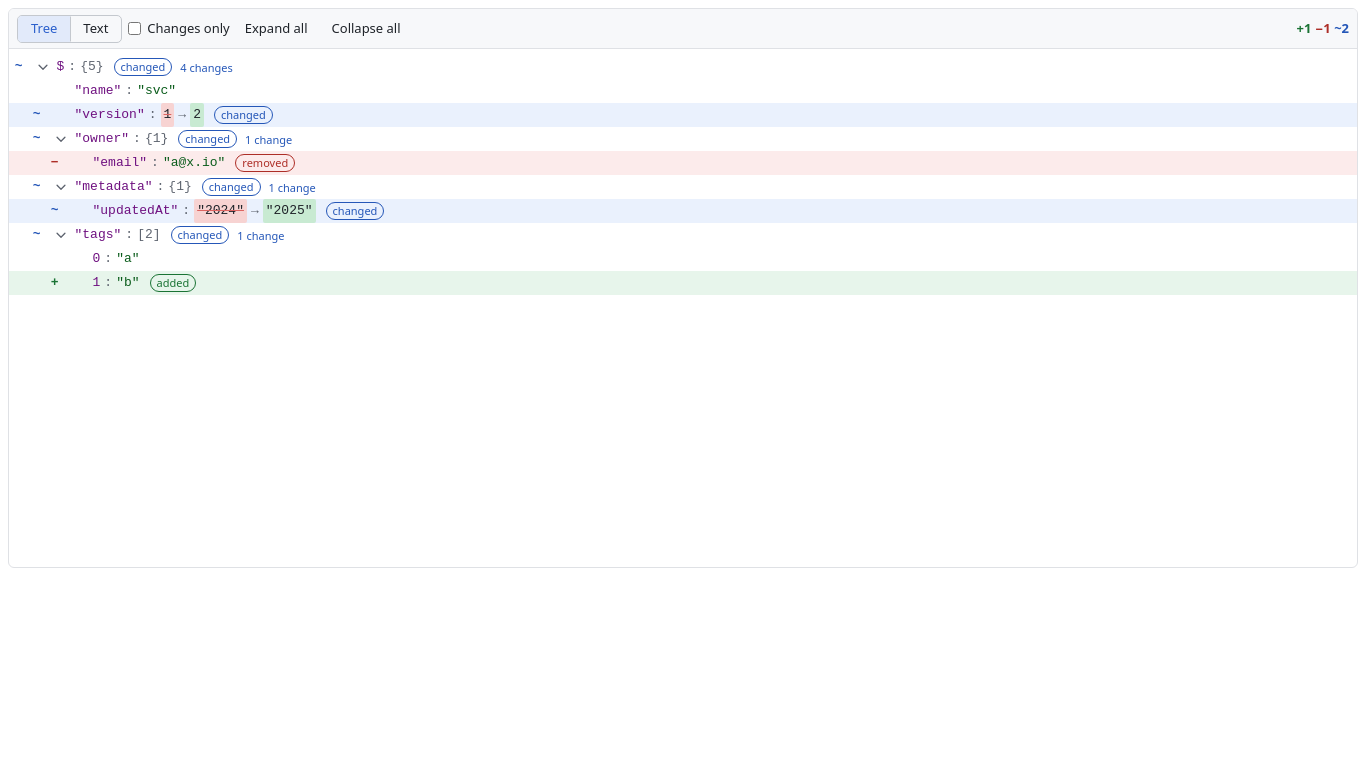
<JsonDiffViewer> › switches to a normalised text diff
Step 1. Click the button "Text" → x=96, y=28, box [70,16,121,42]
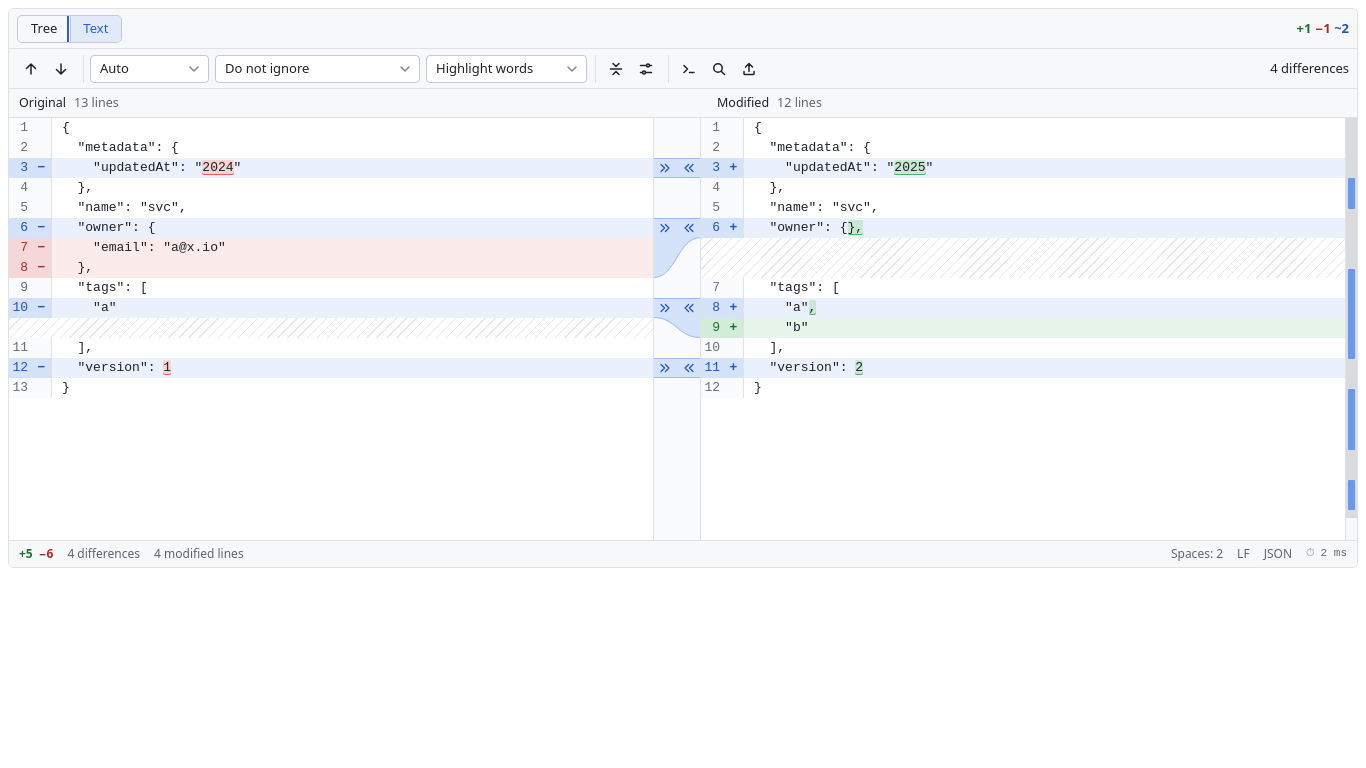
Result: the element with class "m2d-pane-new" shows "\"version\": 2" at [701,118,1345,540]
